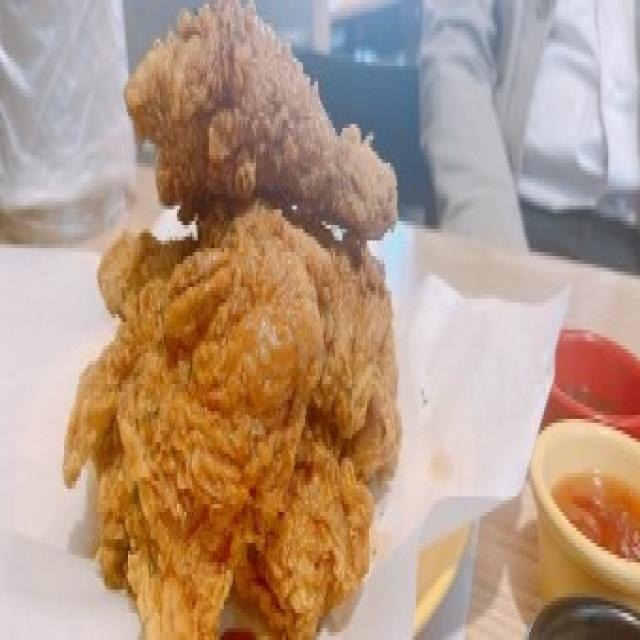Frango: (64, 6, 392, 640)
